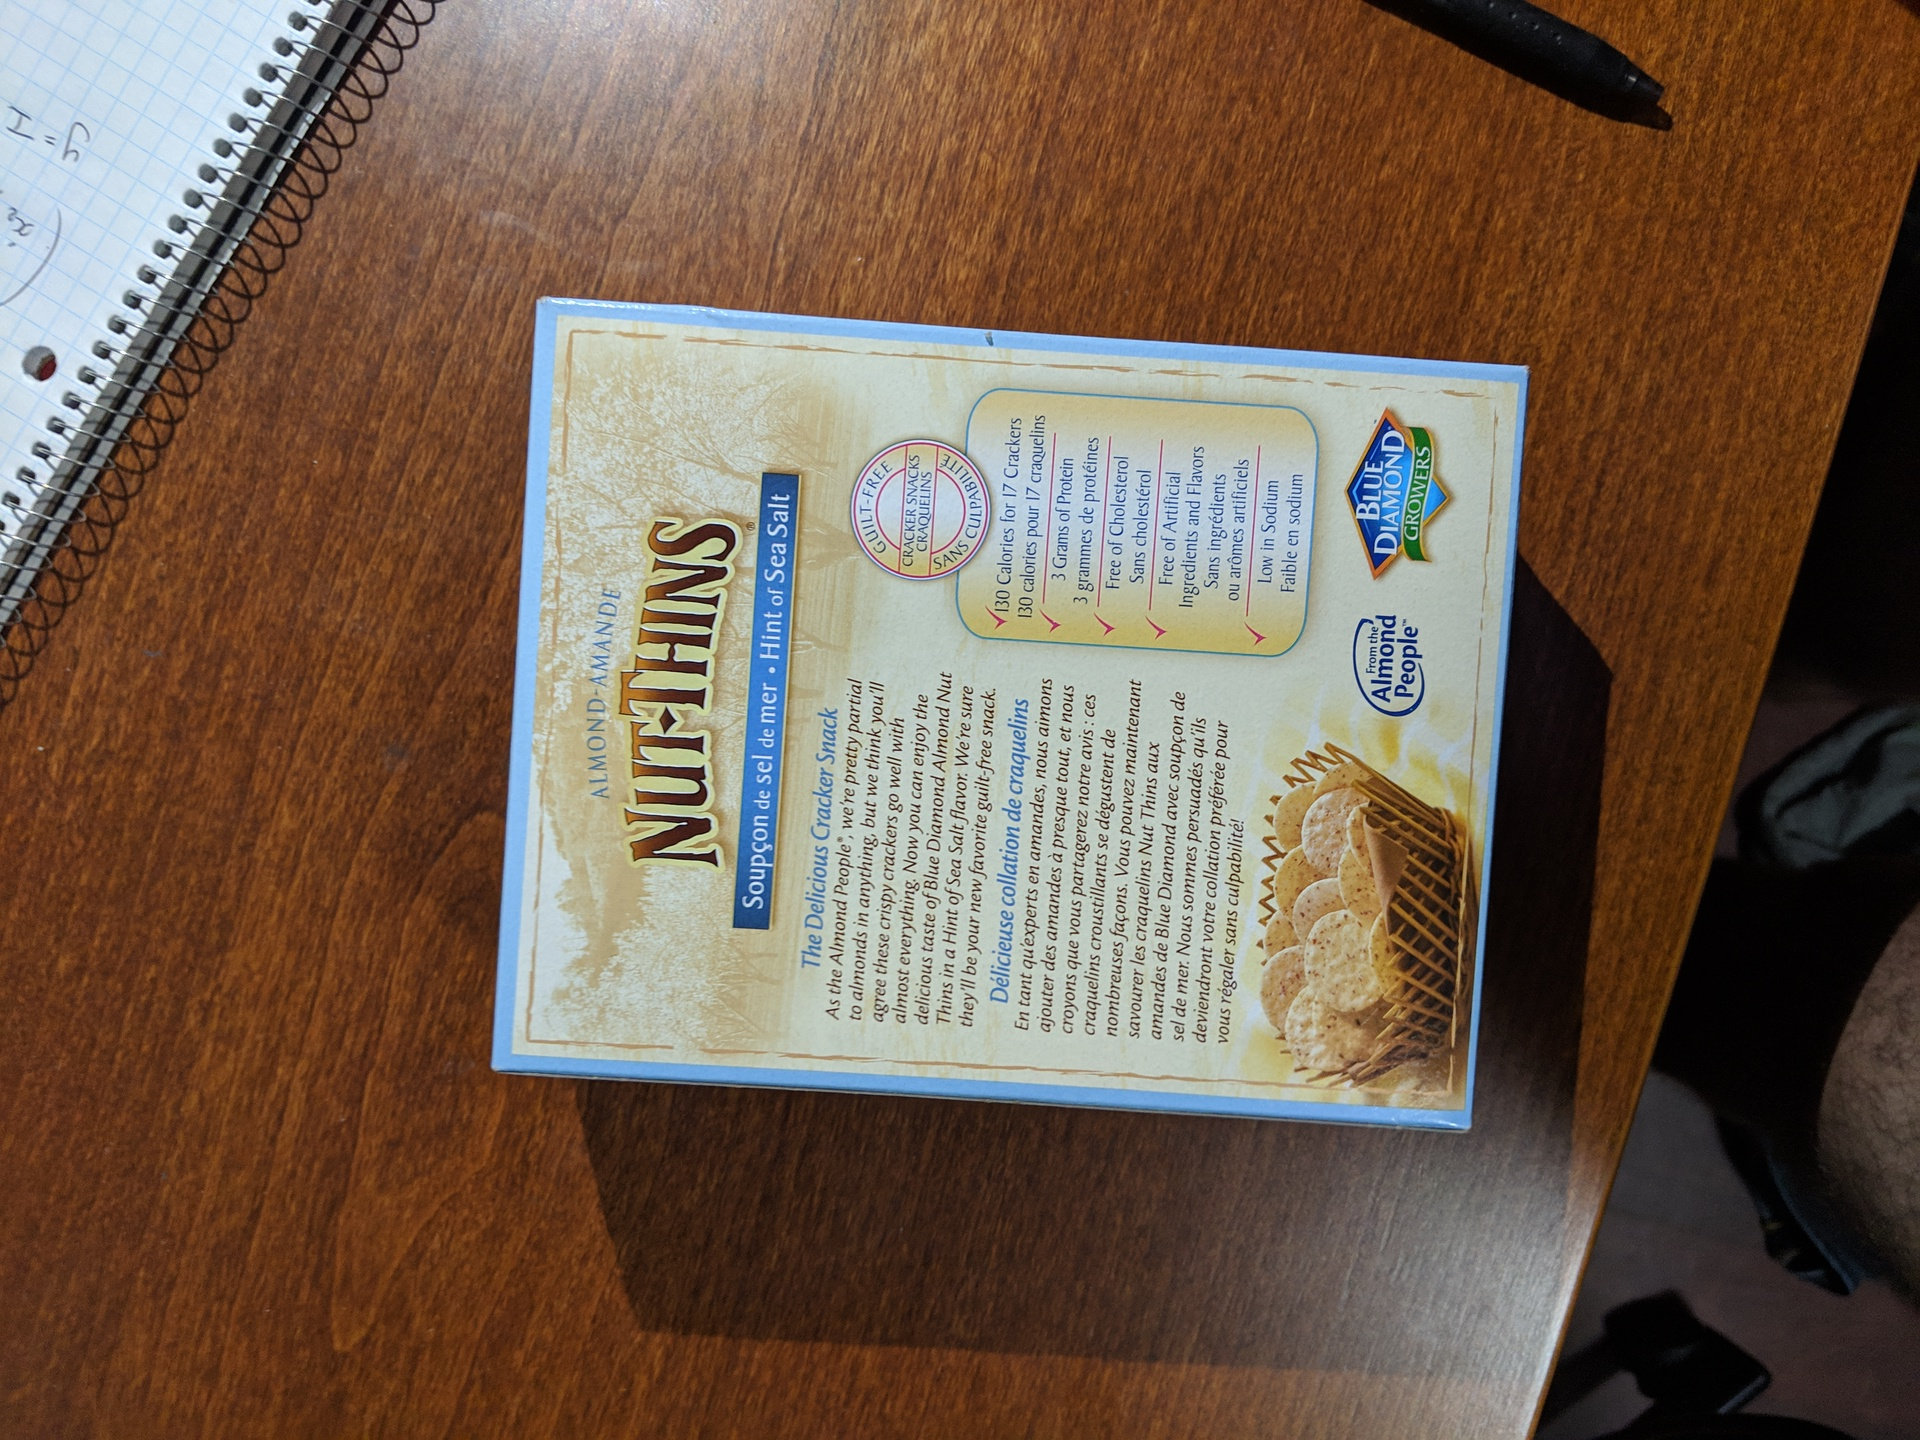blue_diamond_nut_thins_almond_seasalt: (508, 296, 1503, 1137)
